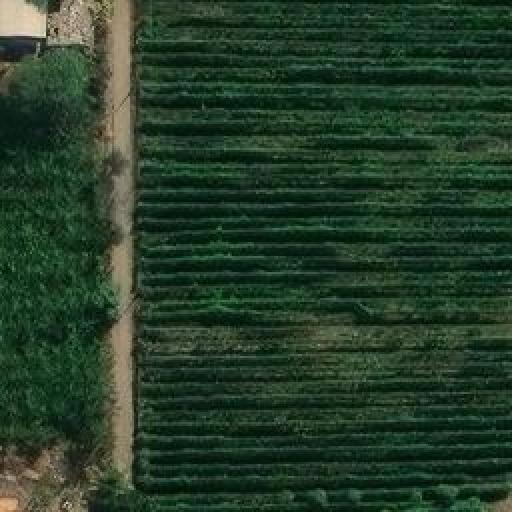manzanas: (0, 0, 100, 51)
